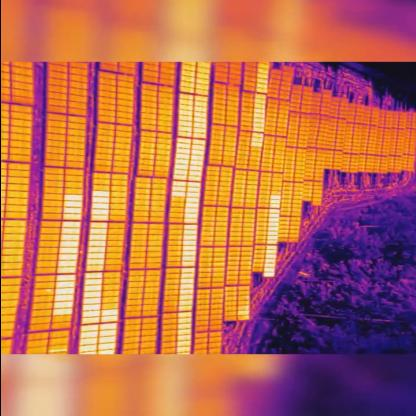diode: (80, 338, 99, 348), (52, 307, 72, 315), (58, 221, 80, 227), (58, 250, 74, 258), (100, 334, 116, 342), (100, 326, 116, 334), (102, 312, 118, 320), (60, 214, 80, 220), (101, 320, 116, 328), (53, 295, 72, 301), (82, 276, 101, 282), (81, 282, 100, 288), (80, 345, 96, 352), (63, 200, 81, 206), (62, 224, 80, 230), (58, 238, 76, 244), (58, 246, 76, 252), (56, 258, 74, 264), (55, 265, 73, 271), (54, 287, 72, 293), (55, 280, 73, 286), (89, 240, 107, 246), (81, 288, 99, 294), (82, 295, 100, 301), (86, 247, 107, 252), (62, 232, 79, 238), (92, 192, 109, 198), (90, 222, 107, 228), (64, 194, 81, 200), (184, 242, 198, 249), (92, 200, 108, 206), (91, 206, 107, 212), (90, 228, 106, 234), (178, 332, 194, 338), (174, 137, 190, 143), (176, 94, 192, 100), (176, 88, 192, 94), (61, 207, 79, 212), (54, 301, 72, 306), (99, 342, 114, 348), (88, 253, 106, 258), (82, 301, 100, 306), (82, 309, 100, 314), (82, 315, 100, 320), (192, 89, 207, 95), (82, 331, 96, 337), (179, 345, 193, 351), (184, 236, 198, 242), (188, 160, 202, 166), (192, 78, 206, 84), (192, 70, 206, 76), (173, 164, 187, 170), (176, 116, 190, 122), (170, 190, 184, 196), (179, 76, 193, 82), (179, 70, 193, 76), (180, 66, 194, 72), (44, 349, 64, 353), (92, 194, 108, 199), (90, 235, 106, 240), (98, 350, 114, 355), (83, 266, 102, 270), (175, 107, 190, 112), (55, 276, 73, 280), (179, 293, 191, 299), (82, 270, 100, 274), (81, 326, 99, 330), (85, 260, 103, 264), (266, 220, 278, 226), (180, 338, 192, 344), (180, 288, 192, 294), (180, 276, 192, 282), (184, 219, 196, 225), (185, 183, 197, 189), (189, 165, 201, 171), (192, 136, 204, 142), (190, 142, 202, 148), (193, 108, 205, 114), (173, 174, 185, 180), (175, 159, 187, 165), (177, 112, 189, 118), (252, 91, 264, 97), (178, 82, 190, 88), (179, 322, 193, 327), (180, 282, 194, 287), (190, 126, 204, 131), (191, 115, 205, 120), (176, 130, 190, 135), (192, 83, 206, 88), (184, 213, 198, 218), (82, 322, 99, 326), (267, 224, 278, 230), (188, 177, 199, 183), (92, 213, 108, 217), (90, 218, 106, 222), (102, 310, 117, 314), (264, 251, 276, 256), (268, 214, 278, 220), (178, 327, 193, 331), (180, 311, 192, 316), (181, 267, 193, 272), (184, 248, 194, 254), (186, 231, 198, 236), (192, 132, 204, 137), (192, 103, 204, 108), (252, 103, 264, 108), (254, 78, 264, 84), (192, 96, 207, 100), (178, 300, 192, 304), (180, 306, 194, 310), (180, 350, 194, 354), (178, 317, 192, 321), (180, 256, 194, 260), (184, 226, 198, 230), (184, 194, 198, 198), (189, 156, 203, 160), (170, 186, 184, 190), (172, 170, 186, 174), (176, 124, 190, 128), (176, 102, 190, 106), (194, 61, 208, 65), (249, 130, 260, 135), (253, 84, 264, 89), (254, 69, 265, 74), (268, 196, 278, 201), (263, 268, 273, 273), (265, 247, 277, 251), (262, 262, 274, 266), (184, 207, 196, 211), (184, 198, 196, 202), (182, 262, 194, 266), (188, 172, 200, 176), (188, 148, 200, 152), (194, 66, 206, 70), (172, 182, 184, 186), (174, 154, 186, 158), (175, 150, 187, 154), (176, 144, 188, 148), (186, 202, 198, 206), (249, 136, 260, 140), (253, 98, 264, 102), (237, 310, 248, 314), (236, 306, 247, 310), (266, 242, 276, 246), (266, 234, 276, 238), (267, 230, 277, 234), (191, 152, 201, 156), (250, 142, 260, 146), (252, 119, 262, 123), (252, 110, 262, 114), (254, 73, 264, 77), (262, 273, 272, 277), (78, 352, 96, 354), (268, 211, 277, 215), (186, 190, 198, 193), (192, 121, 204, 124), (266, 256, 274, 260), (270, 202, 278, 206), (252, 124, 262, 127), (254, 64, 264, 67), (190, 100, 204, 102), (269, 207, 278, 210), (182, 274, 194, 276), (253, 115, 261, 118), (266, 240, 275, 242), (256, 62, 264, 63)
hotspot: (242, 315, 247, 318)
